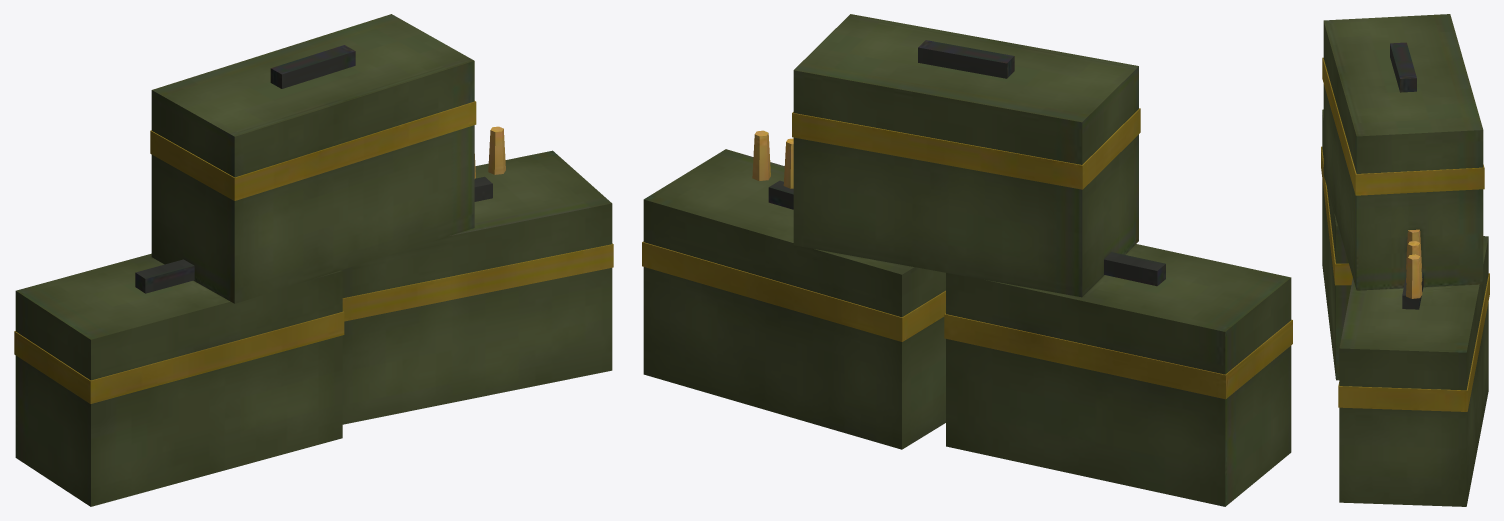
File: ammo_boxes_idle.glb
The picture shows the model from 3 angles, left to right: view 1: azimuth 30°, elevation 25°; view 2: azimuth 150°, elevation 25°; view 3: azimuth 270°, elevation 25°; orthographic projection. The views are drawn at different scales.
Visible parts, largest first — view 1: ammo_boxes; view 2: ammo_boxes; view 3: ammo_boxes.
Boxes of the visible parts, bbox=[...] form: ammo_boxes: bbox=[14, 14, 613, 506]; ammo_boxes: bbox=[642, 14, 1292, 506]; ammo_boxes: bbox=[1321, 14, 1489, 506].
Size of the model in its own units: 0.5493 by 0.335 by 0.1587.
1 material, 1 textured.
